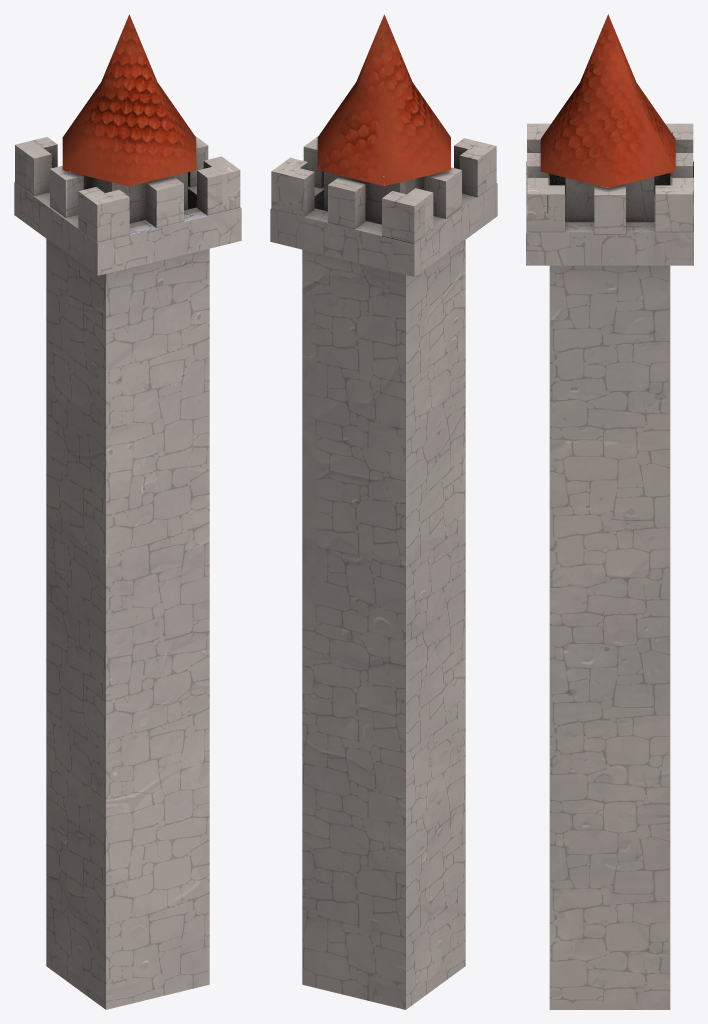
File: Castillo_torre_cuadrada.fbx
3 renders of one model, left to right at view 1: azimuth 30°, elevation 25°; view 2: azimuth 150°, elevation 25°; view 3: azimuth 270°, elevation 25°, orthographic.
Parts seen in each view (by area): view 1: Obj_torre_cuadrada; view 2: Obj_torre_cuadrada; view 3: Obj_torre_cuadrada.
Boxes of the visible parts, box(x1,y1,x2,y2) form: Obj_torre_cuadrada: box(14, 14, 241, 1009); Obj_torre_cuadrada: box(270, 14, 497, 1009); Obj_torre_cuadrada: box(526, 14, 693, 1009).
Size of the model in its own units: 388 by 2465 by 387.
